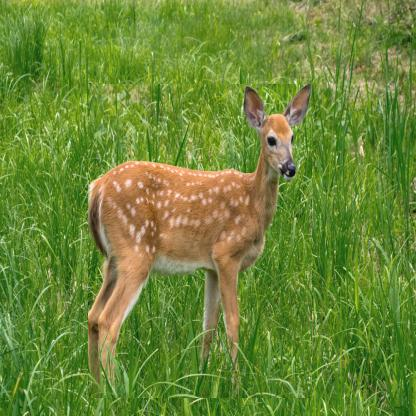Deer: (88, 84, 312, 398)
